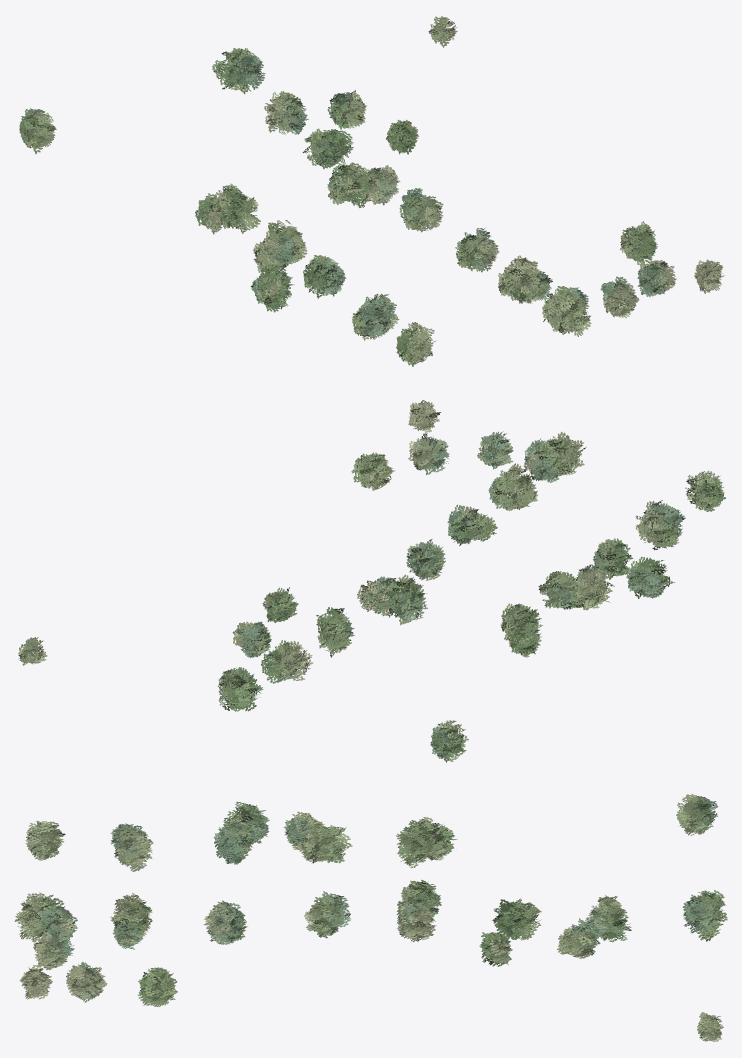
Rendered from campus-tree-3_-2-middle.glb.
3 renders of one model, top to bottom at view 1: azimuth 30°, elevation 25°; view 2: azimuth 150°, elevation 25°; view 3: azimuth 270°, elevation 25°, orthographic. The views are drawn at different scales.
Parts seen in each view (by area): view 1: Campus leaf canopy; view 2: Campus leaf canopy; view 3: Campus leaf canopy.
Part boxes in pixels (box(x1,y1,x2,y2)): Campus leaf canopy: box(19, 16, 724, 366); Campus leaf canopy: box(18, 400, 725, 762); Campus leaf canopy: box(14, 793, 727, 1041).
Bounding box in the file's own units: 62.03 × 7.25 × 84.02.
Materials: 1 (1 with a texture image).
